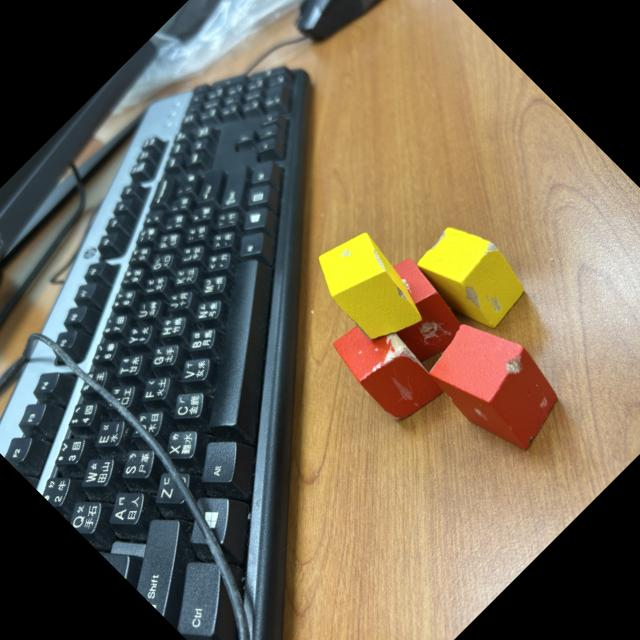broken: (416, 305, 576, 464), (301, 218, 439, 356), (408, 210, 538, 340), (325, 304, 451, 430), (356, 251, 474, 368)
